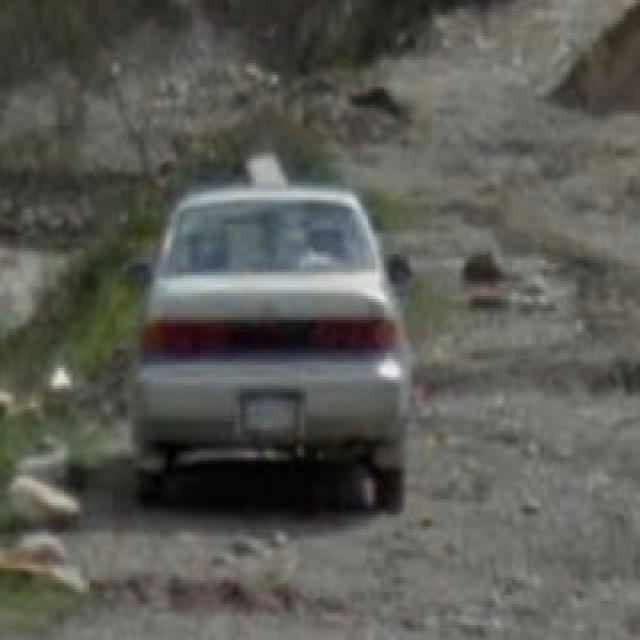Car: (135, 183, 414, 507)
